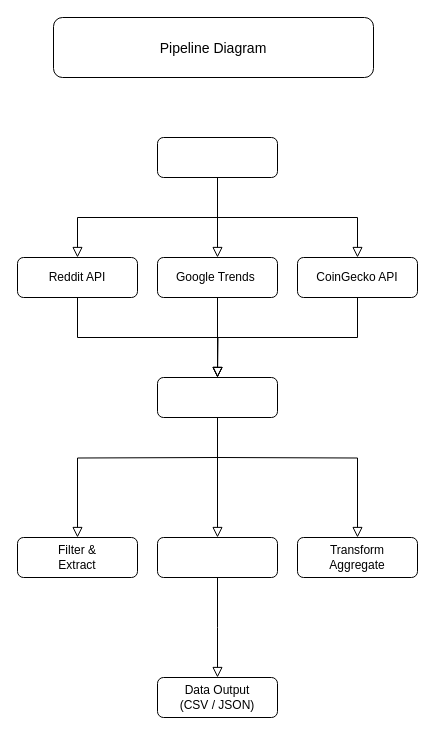
Image size: 435x735. Some labels were removed from this diagram. The shapes that lost their labels are listed below. From the top down, each one's box as (x1, y1, x2, y2) in pixels, then its label:
(156, 136, 278, 178): Data Sources
(156, 376, 278, 418): Data Processing (Python Scripts)
(156, 536, 278, 578): Clean & Structure
